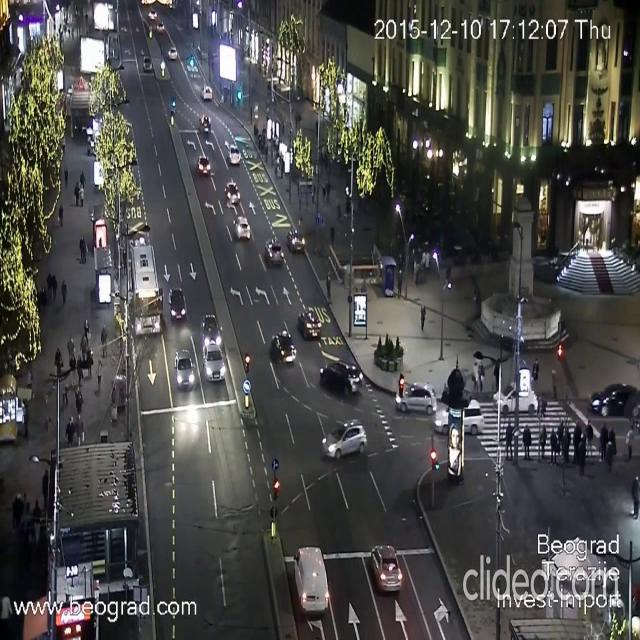bus: (128, 236, 162, 336)
car: (293, 546, 329, 616), (489, 377, 541, 418), (434, 398, 488, 435), (321, 420, 367, 460), (587, 385, 640, 418), (370, 544, 402, 594), (321, 356, 363, 394), (271, 329, 297, 363), (204, 340, 225, 382), (297, 308, 322, 341), (176, 350, 194, 388), (394, 389, 429, 408), (168, 288, 186, 322), (264, 236, 284, 265), (202, 310, 220, 342), (232, 215, 250, 240), (227, 180, 240, 207), (196, 115, 212, 133), (197, 155, 210, 177), (228, 146, 240, 166), (290, 230, 302, 250), (155, 17, 166, 35), (142, 57, 152, 76), (201, 85, 212, 102), (168, 44, 176, 59)
